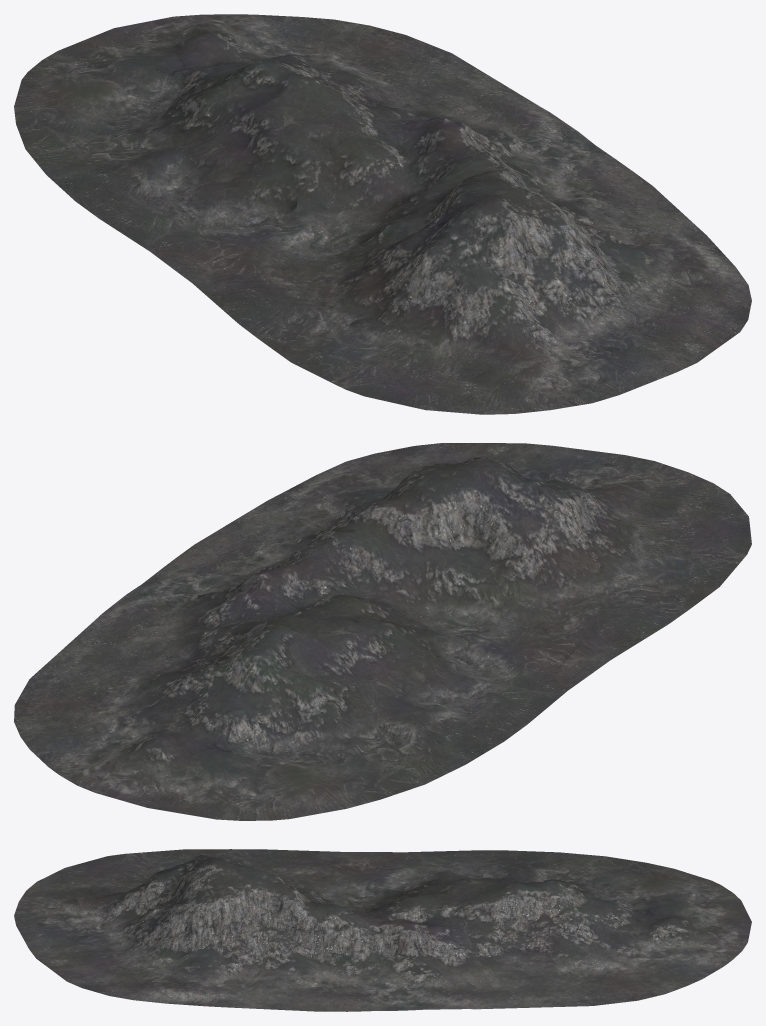
The model's file is Hill_02_4K_GREY.fbx.
3 renders of one model, top to bottom at view 1: azimuth 30°, elevation 25°; view 2: azimuth 150°, elevation 25°; view 3: azimuth 270°, elevation 25°, orthographic. The views are drawn at different scales.
Visible parts, largest first — view 1: Hill_02_4K_GREY; view 2: Hill_02_4K_GREY; view 3: Hill_02_4K_GREY.
Boxes of the visible parts, bbox=[...] form: Hill_02_4K_GREY: bbox=[14, 14, 751, 414]; Hill_02_4K_GREY: bbox=[14, 443, 751, 820]; Hill_02_4K_GREY: bbox=[14, 849, 751, 1011].
Size of the model in its own units: 392 by 75.7 by 753.
1 material, 1 textured.
